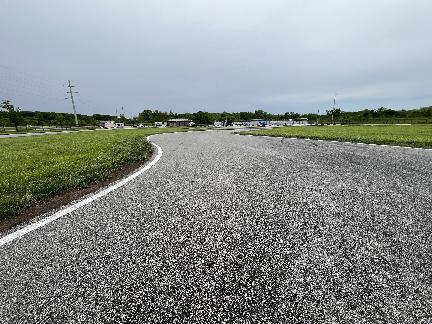Grass: (0, 128, 196, 226), (238, 125, 431, 148)
Lane: (0, 130, 431, 323)
